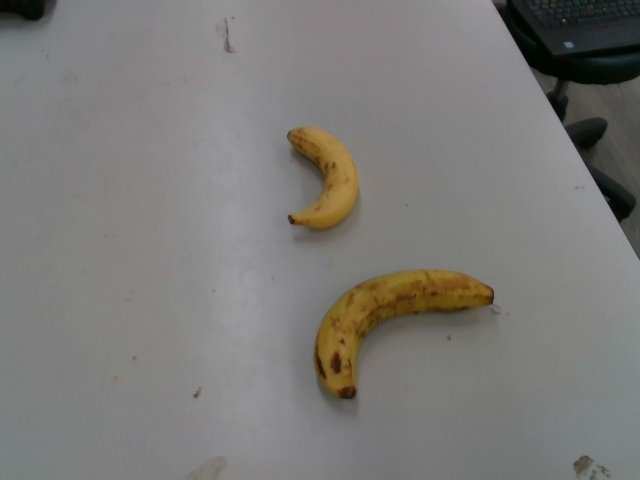banana: (313, 268, 495, 401), (283, 124, 359, 231)
